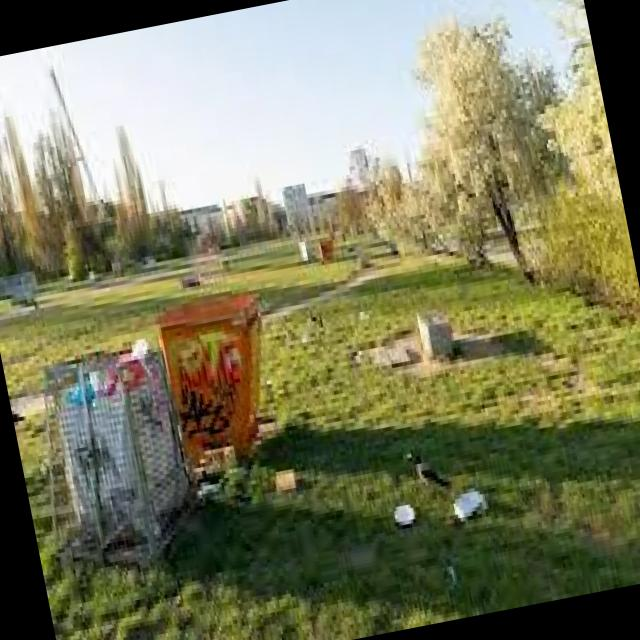garbage: (24, 309, 211, 573)
